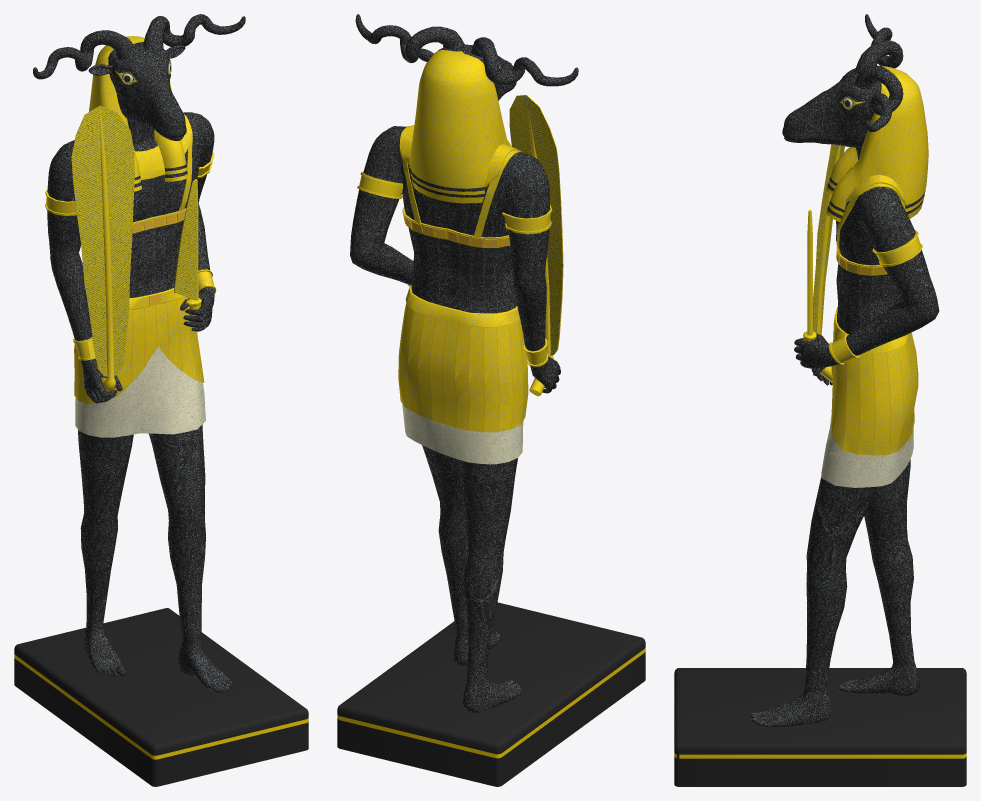
Rendered from goat statue.dae.
3 views of the same model, side by side, from view 1: azimuth 30°, elevation 25°; view 2: azimuth 150°, elevation 25°; view 3: azimuth 270°, elevation 25° (orthographic). The views are drawn at different scales.
Parts seen in each view (by area): view 1: Chnum (×19), group_0 (×2); view 2: Chnum (×23), group_0 (×2); view 3: Chnum (×15), group_0 (×2).
Boxes of the visible parts, x1=… form: Chnum (×19): x1=33, y1=14, x2=245, y2=693; group_0 (×2): x1=14, y1=608, x2=308, y2=786; Chnum (×23): x1=350, y1=14, x2=578, y2=712; group_0 (×2): x1=337, y1=602, x2=645, y2=786; Chnum (×15): x1=750, y1=14, x2=939, y2=727; group_0 (×2): x1=674, y1=668, x2=966, y2=786.
Size of the model in its own units: 80.39 by 92.74 by 243.
